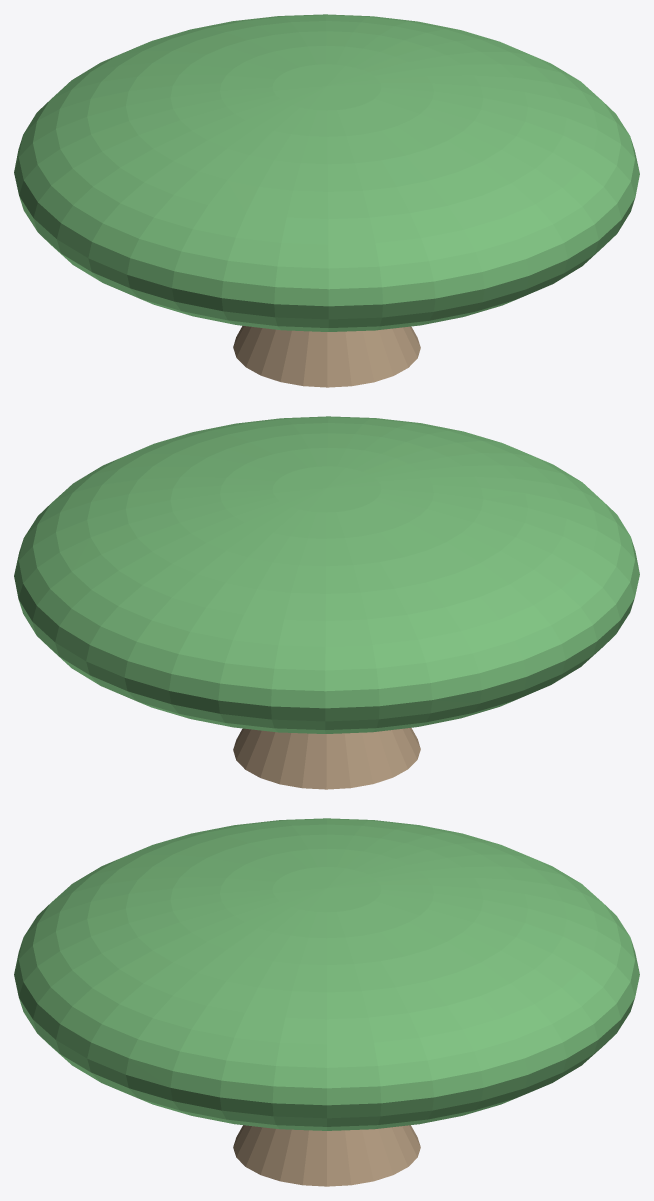
Rendered from Smooth Wluff-Juttuli.glb.
3 views of the same model, one above another, from view 1: azimuth 30°, elevation 25°; view 2: azimuth 150°, elevation 25°; view 3: azimuth 270°, elevation 25° (orthographic).
Parts seen in each view (by area): view 1: Mesh_Mesh_head_geo.001_lambert2SG.001; view 2: Mesh_Mesh_head_geo.001_lambert2SG.001; view 3: Mesh_Mesh_head_geo.001_lambert2SG.001.
Part boxes in pixels (left/top/right/bottom): Mesh_Mesh_head_geo.001_lambert2SG.001: left=14, top=14, right=639, bottom=387; Mesh_Mesh_head_geo.001_lambert2SG.001: left=14, top=416, right=639, bottom=789; Mesh_Mesh_head_geo.001_lambert2SG.001: left=14, top=818, right=639, bottom=1186.
Size of the model in its own units: 0.16 by 0.074 by 0.162.
